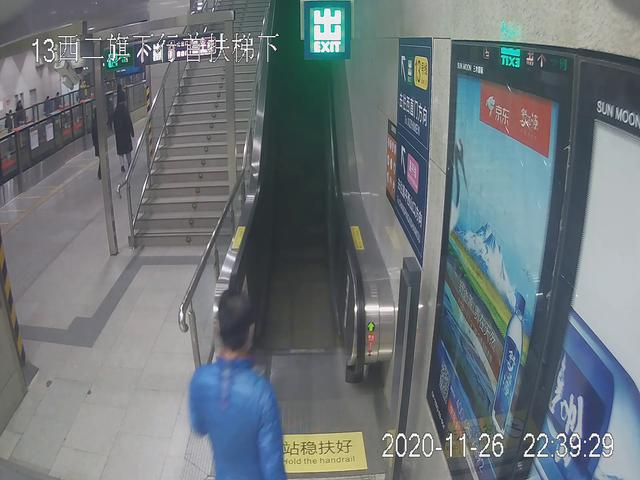person: (183, 281, 290, 480), (109, 97, 136, 176)
